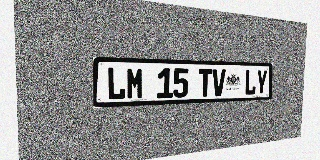1: (157, 68, 173, 98)
5: (173, 68, 188, 98)
L: (107, 67, 126, 100), (244, 70, 256, 95)
M: (126, 67, 144, 100)
T: (198, 69, 212, 97)
V: (212, 69, 226, 96)
Y: (256, 70, 267, 95)
